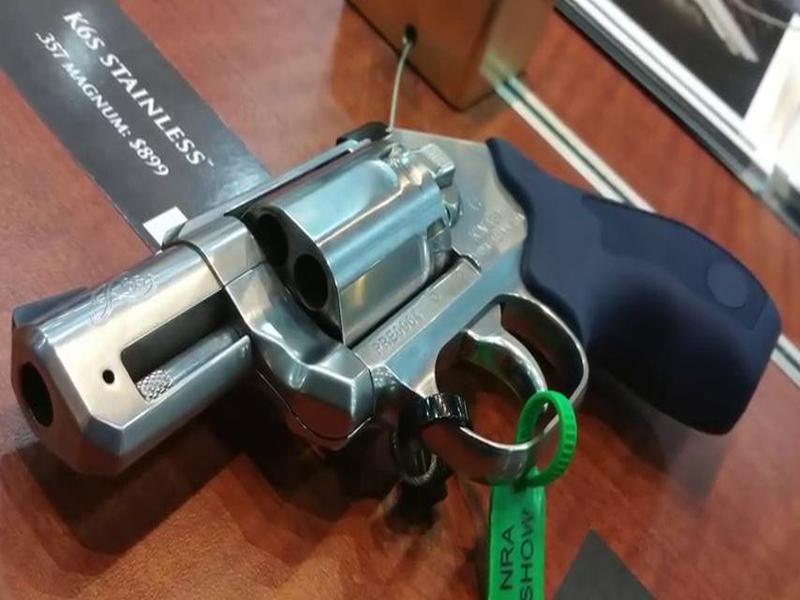Revolver: (21, 105, 788, 495)
